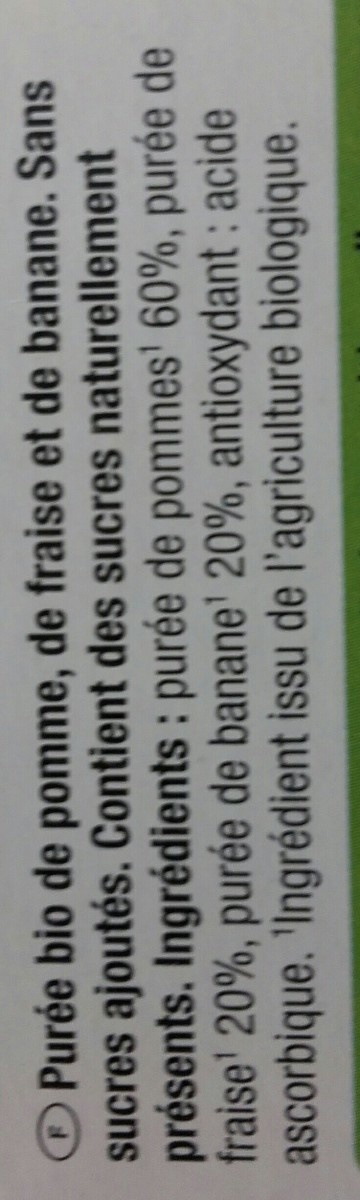ingredients: (132, 16, 335, 1169)
